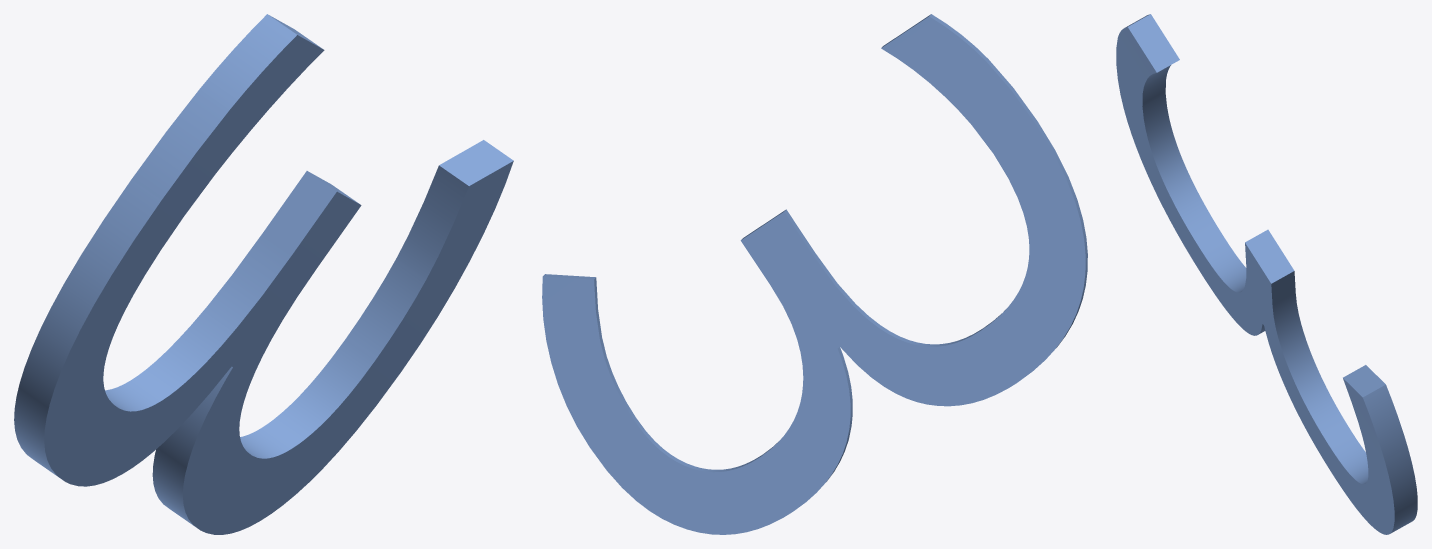
The model's file is New_Number_3.gltf.
3 renders of one model, left to right at view 1: azimuth 30°, elevation 25°; view 2: azimuth 150°, elevation 25°; view 3: azimuth 270°, elevation 25°, orthographic. The views are drawn at different scales.
Parts seen in each view (by area): view 1: Part 21; view 2: Part 21; view 3: Part 21.
Boxes of the visible parts, x1,y1,x2,y2 form: Part 21: (14,14,513,534); Part 21: (542,14,1087,534); Part 21: (1116,14,1417,534).
Bounding box in the file's own units: 0.00475 × 0.00473 × 0.00281.
